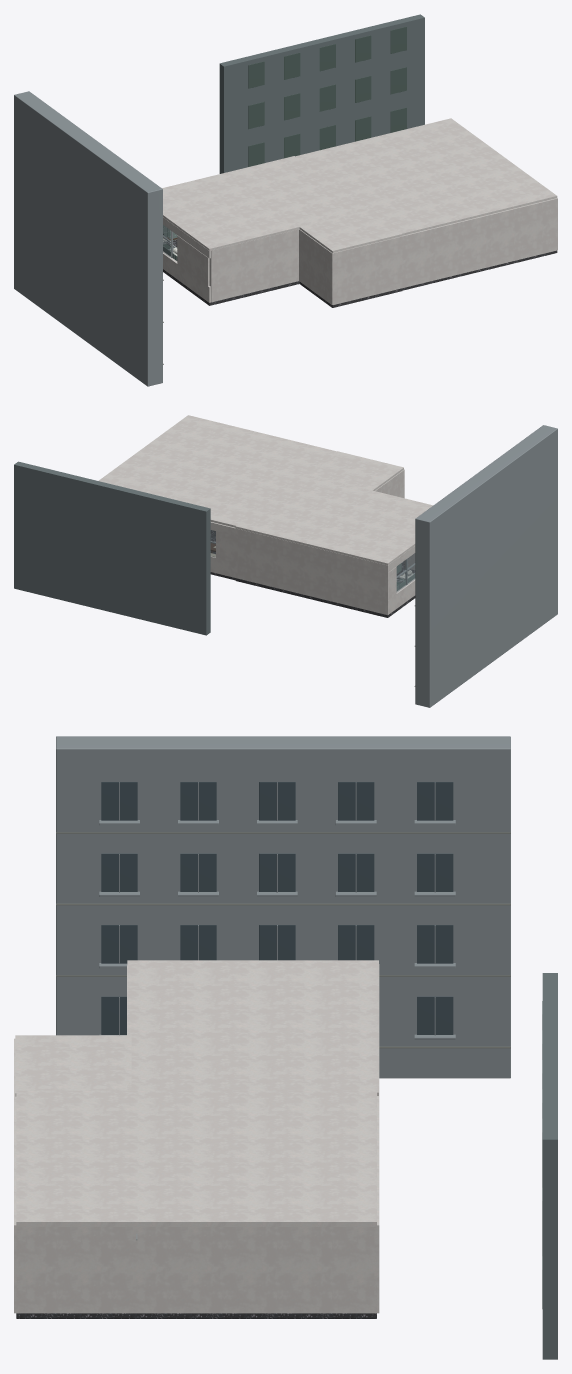
File: south_block.glb
3 views of the same model, one above another, from view 1: azimuth 30°, elevation 25°; view 2: azimuth 150°, elevation 25°; view 3: azimuth 270°, elevation 25° (orthographic). The views are drawn at different scales.
Visible parts, largest first — view 1: Architecture_aged_plaster, Architecture_courtyard_concrete, Architecture_east_courtyard_concrete, Architecture_cabinet_edges, Architecture_stone_floor; view 2: Architecture_aged_plaster, Architecture_courtyard_concrete, Architecture_east_courtyard_concrete, Architecture_stone_floor, Architecture_window_glass; view 3: Architecture_aged_plaster, Architecture_courtyard_concrete, Architecture_courtyard_windows, Architecture_east_courtyard_concrete, Architecture_stained_plaster, Architecture_stone_floor.
Boxes of the visible parts, <box> form: Architecture_aged_plaster: <box>162,118,557,304</box>; Architecture_courtyard_concrete: <box>14,91,162,386</box>; Architecture_east_courtyard_concrete: <box>219,14,424,173</box>; Architecture_cabinet_edges: <box>163,26,406,251</box>; Architecture_stone_floor: <box>163,240,557,307</box>; Architecture_aged_plaster: <box>98,415,432,614</box>; Architecture_courtyard_concrete: <box>415,425,557,707</box>; Architecture_east_courtyard_concrete: <box>14,461,210,635</box>; Architecture_stone_floor: <box>210,530,415,617</box>; Architecture_window_glass: <box>211,530,414,592</box>; Architecture_aged_plaster: <box>14,960,379,1313</box>; Architecture_courtyard_concrete: <box>56,736,510,1078</box>; Architecture_courtyard_windows: <box>101,782,453,1034</box>; Architecture_east_courtyard_concrete: <box>542,973,557,1359</box>; Architecture_stained_plaster: <box>56,832,510,1048</box>; Architecture_stone_floor: <box>16,1313,376,1318</box>.
Bounding box in the file's own units: 27.2 × 12 × 17.93.
Materials: 34 (2 with a texture image).
